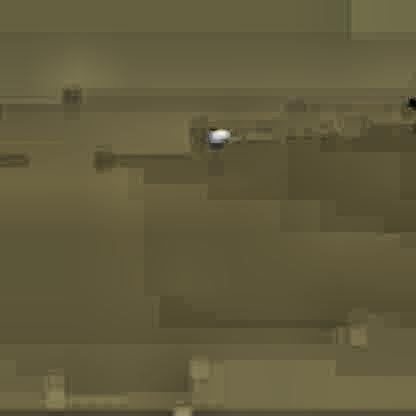golfball: (205, 125, 228, 145)
